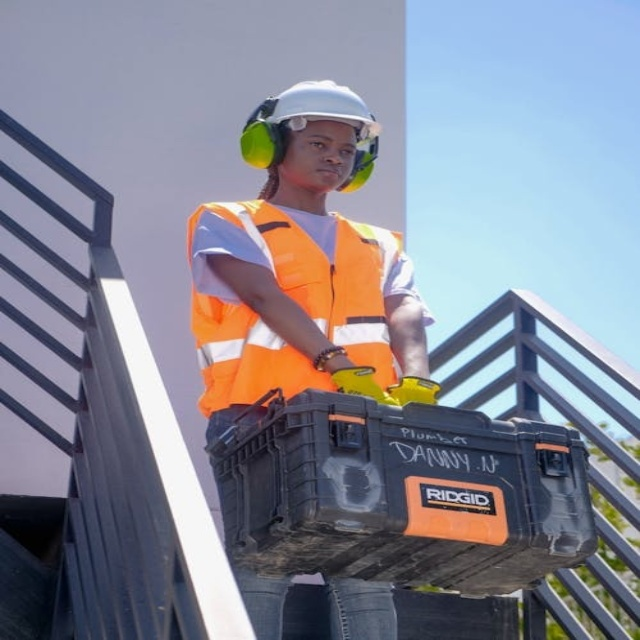Guantes: (324, 356, 389, 406), (386, 376, 442, 407)
Sin_gafas: (297, 132, 356, 155)
Sin_mascara: (308, 163, 348, 188)
